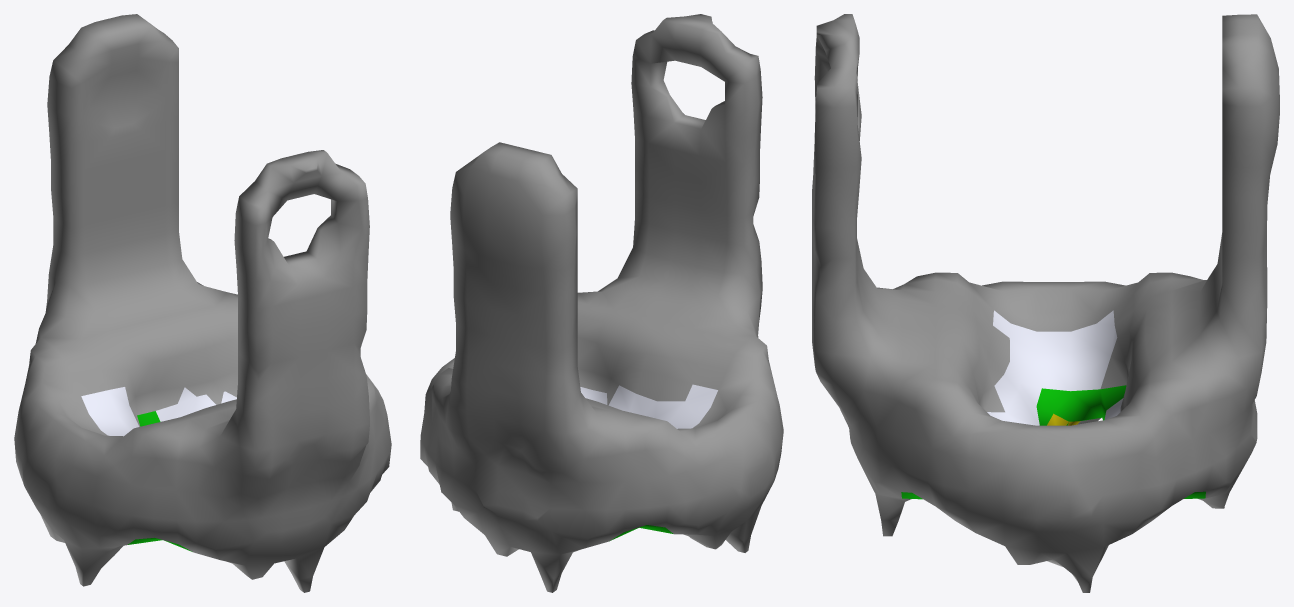
Rendered from base_link_remeshed.dae.
The picture shows the model from 3 angles, left to right: view 1: azimuth 30°, elevation 25°; view 2: azimuth 150°, elevation 25°; view 3: azimuth 270°, elevation 25°; orthographic projection. The views are drawn at different scales.
Parts seen in each view (by area): view 1: node0; view 2: node0; view 3: node0.
Part boxes in pixels (left/top/right/bottom): node0: left=14, top=14, right=391, bottom=592; node0: left=420, top=14, right=783, bottom=592; node0: left=812, top=14, right=1279, bottom=592.
Bounding box in the file's own units: 0.0364 × 0.0416 × 0.0484.
